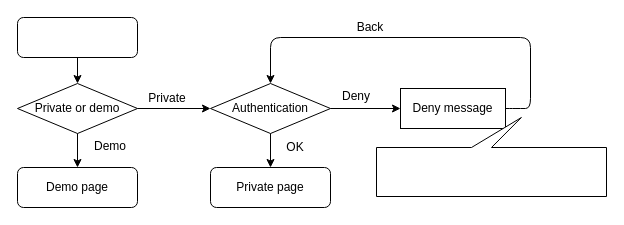
Image size: 624x225. Some labels were removed from this diagram. Here are the shapes that lost their labels. From the top down, the centre of each, then its label:
At [77,37]: "Access".
At [491,156]: "If authentication fails three times in a row, the session is terminated.".
